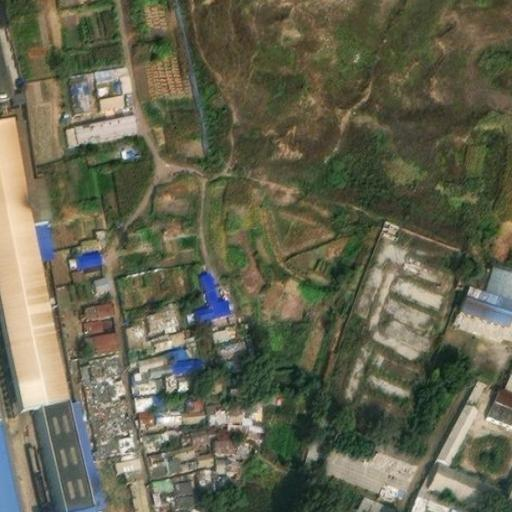building: (0, 110, 69, 403), (41, 394, 91, 507), (436, 373, 486, 457), (69, 391, 107, 501), (429, 458, 507, 508), (66, 107, 138, 143), (0, 423, 26, 512), (412, 478, 467, 512), (139, 341, 199, 372), (462, 281, 512, 318), (93, 60, 133, 106), (189, 266, 229, 312), (58, 295, 87, 355), (54, 267, 109, 298), (170, 435, 215, 469), (66, 67, 101, 109), (76, 346, 121, 378), (138, 399, 187, 428), (172, 465, 202, 512), (26, 170, 53, 216), (114, 431, 142, 475), (211, 318, 248, 351), (227, 390, 267, 419), (142, 421, 186, 447), (83, 370, 125, 396), (70, 233, 102, 265), (127, 471, 151, 512), (83, 325, 119, 352), (49, 240, 75, 277), (486, 258, 512, 293), (146, 442, 175, 473), (34, 213, 56, 253), (460, 495, 508, 512), (131, 362, 158, 391), (183, 386, 206, 420), (151, 469, 177, 498), (213, 447, 244, 471), (203, 393, 230, 420), (164, 365, 194, 389), (209, 426, 236, 452), (194, 461, 219, 488), (129, 313, 152, 342), (146, 303, 175, 326), (350, 496, 391, 512), (150, 322, 176, 346), (489, 393, 512, 419), (80, 309, 106, 331), (84, 294, 114, 313), (135, 387, 161, 408), (184, 423, 210, 439), (496, 380, 512, 399), (507, 367, 512, 383)
